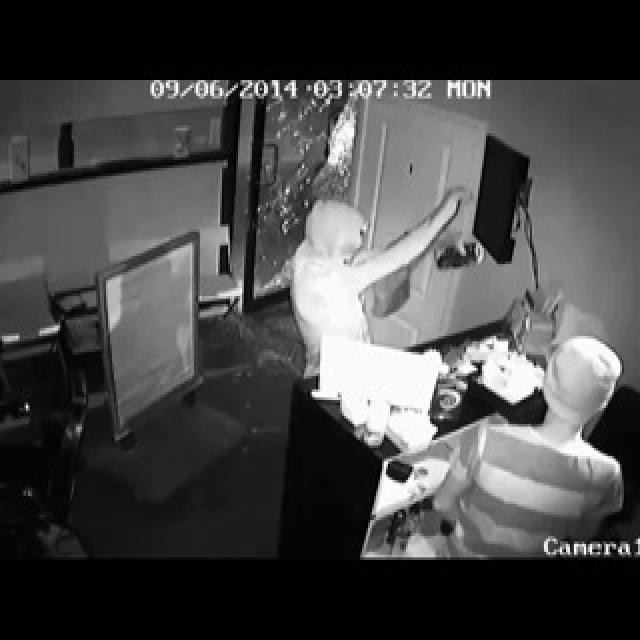thief: (261, 182, 435, 388), (481, 341, 617, 548)
